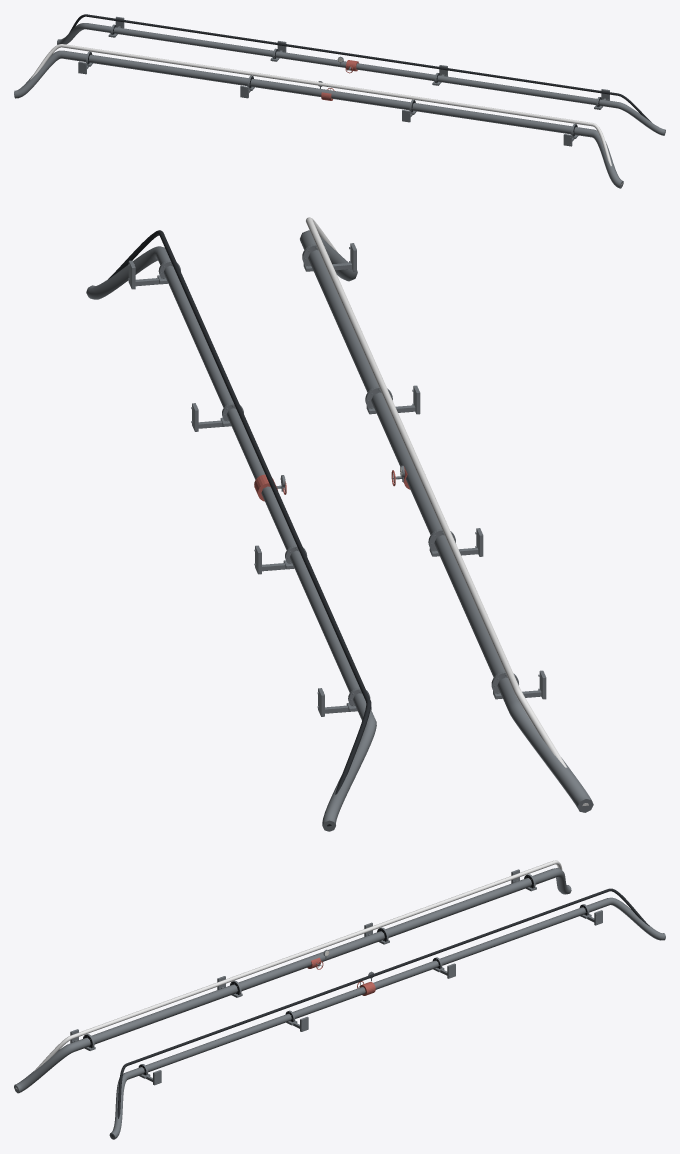
File: BD_T12_UpperProcessLines.fbx
The picture shows the model from 3 angles, top to bottom: view 1: azimuth 30°, elevation 25°; view 2: azimuth 150°, elevation 25°; view 3: azimuth 270°, elevation 25°; orthographic projection. The views are drawn at different scales.
Parts seen in each view (by area): view 1: BD_T12_UpperProcessLines; view 2: BD_T12_UpperProcessLines; view 3: BD_T12_UpperProcessLines.
Part boxes in pixels (x1=…): BD_T12_UpperProcessLines: x1=14, y1=14, x2=665, y2=188; BD_T12_UpperProcessLines: x1=86, y1=217, x2=593, y2=831; BD_T12_UpperProcessLines: x1=14, y1=860, x2=665, y2=1139.
Size of the model in its own units: 1828 by 189 by 2020.
